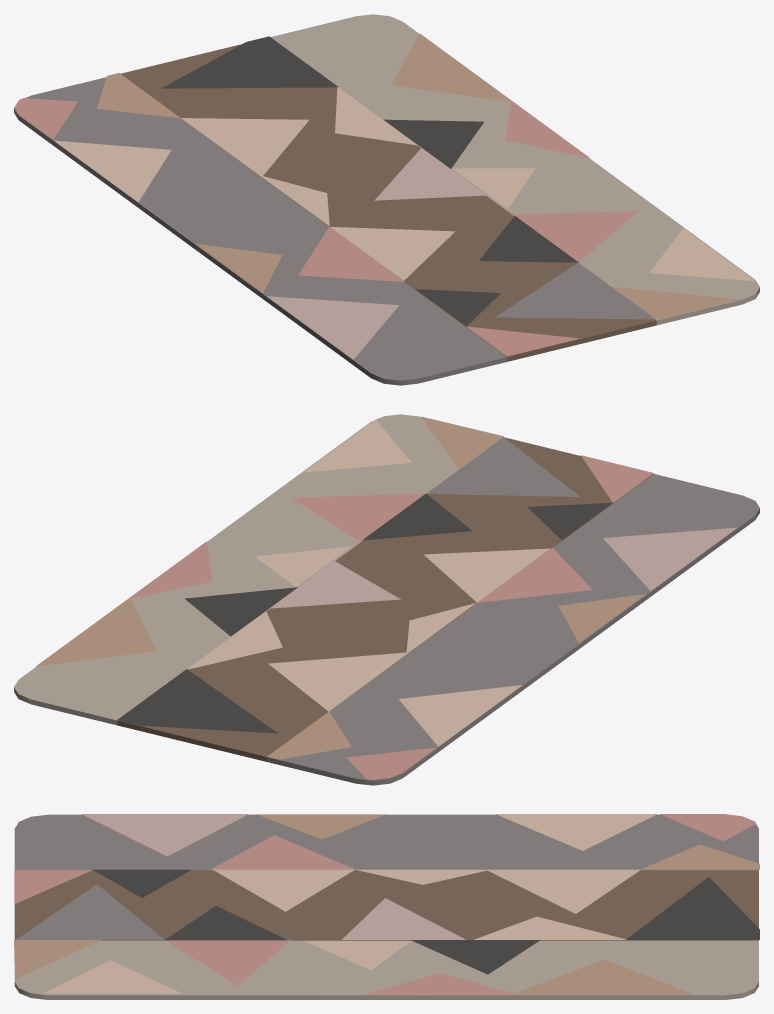
File: pattern-rug-transformed.glb
3 views of the same model, one above another, from view 1: azimuth 30°, elevation 25°; view 2: azimuth 150°, elevation 25°; view 3: azimuth 270°, elevation 25° (orthographic). The views are drawn at different scales.
Parts seen in each view (by area): view 1: Merged Geometry 15, Rectangle 16, Rectangle 17, Merged Geometry 13, Merged Geometry 11, Merged Geometry 10.001, Merged Geometry 12, Merged Geometry 14; view 2: Merged Geometry 15, Rectangle 16, Rectangle 17, Merged Geometry 13, Merged Geometry 11, Merged Geometry 10.001, Merged Geometry 12, Merged Geometry 14; view 3: Merged Geometry 15, Rectangle 17, Rectangle 16, Merged Geometry 13, Merged Geometry 11, Merged Geometry 10.001, Merged Geometry 12, Merged Geometry 14.
Boxes of the visible parts, left/top/right/bottom form: Merged Geometry 15: left=14, top=77, right=655, bottom=385; Rectangle 16: left=120, top=44, right=656, bottom=361; Rectangle 17: left=271, top=14, right=759, bottom=325; Merged Geometry 13: left=54, top=87, right=755, bottom=281; Merged Geometry 11: left=161, top=36, right=578, bottom=326; Merged Geometry 10.001: left=15, top=98, right=637, bottom=356; Merged Geometry 12: left=97, top=33, right=738, bottom=319; Merged Geometry 14: left=267, top=148, right=486, bottom=359; Merged Geometry 15: left=267, top=437, right=759, bottom=785; Rectangle 16: left=117, top=437, right=653, bottom=761; Rectangle 17: left=14, top=414, right=497, bottom=725; Merged Geometry 13: left=187, top=419, right=550, bottom=746; Merged Geometry 11: left=117, top=493, right=613, bottom=733; Merged Geometry 10.001: left=130, top=455, right=653, bottom=779; Merged Geometry 12: left=36, top=416, right=645, bottom=759; Merged Geometry 14: left=269, top=527, right=736, bottom=608; Merged Geometry 15: left=14, top=814, right=758, bottom=939; Rectangle 17: left=14, top=940, right=758, bottom=999; Rectangle 16: left=14, top=870, right=758, bottom=940; Merged Geometry 13: left=43, top=814, right=657, bottom=993; Merged Geometry 11: left=93, top=869, right=759, bottom=974; Merged Geometry 10.001: left=14, top=814, right=756, bottom=994; Merged Geometry 12: left=14, top=814, right=759, bottom=994; Merged Geometry 14: left=82, top=814, right=465, bottom=939.
Bounding box in the file's own units: 3.23 × 0.0457 × 5.64.
